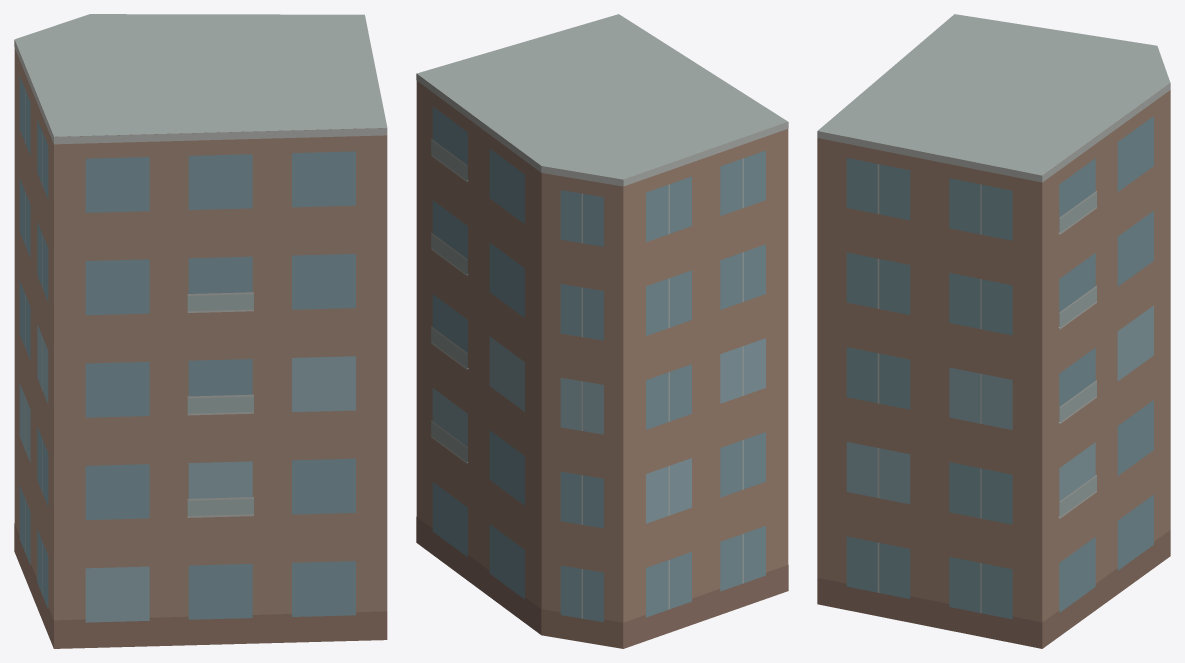
File: survey-upis-32886039.glb
3 renders of one model, left to right at view 1: azimuth 30°, elevation 25°; view 2: azimuth 150°, elevation 25°; view 3: azimuth 270°, elevation 25°, orthographic. The views are drawn at different scales.
Parts seen in each view (by area): view 1: survey-upis-32886039.tmp; view 2: survey-upis-32886039.tmp; view 3: survey-upis-32886039.tmp.
Boxes of the visible parts, x1,y1,x2,y2 form: survey-upis-32886039.tmp: [14, 14, 387, 648]; survey-upis-32886039.tmp: [416, 14, 788, 648]; survey-upis-32886039.tmp: [817, 14, 1170, 648].
Size of the model in its own units: 12.17 by 16.6 by 11.24.
